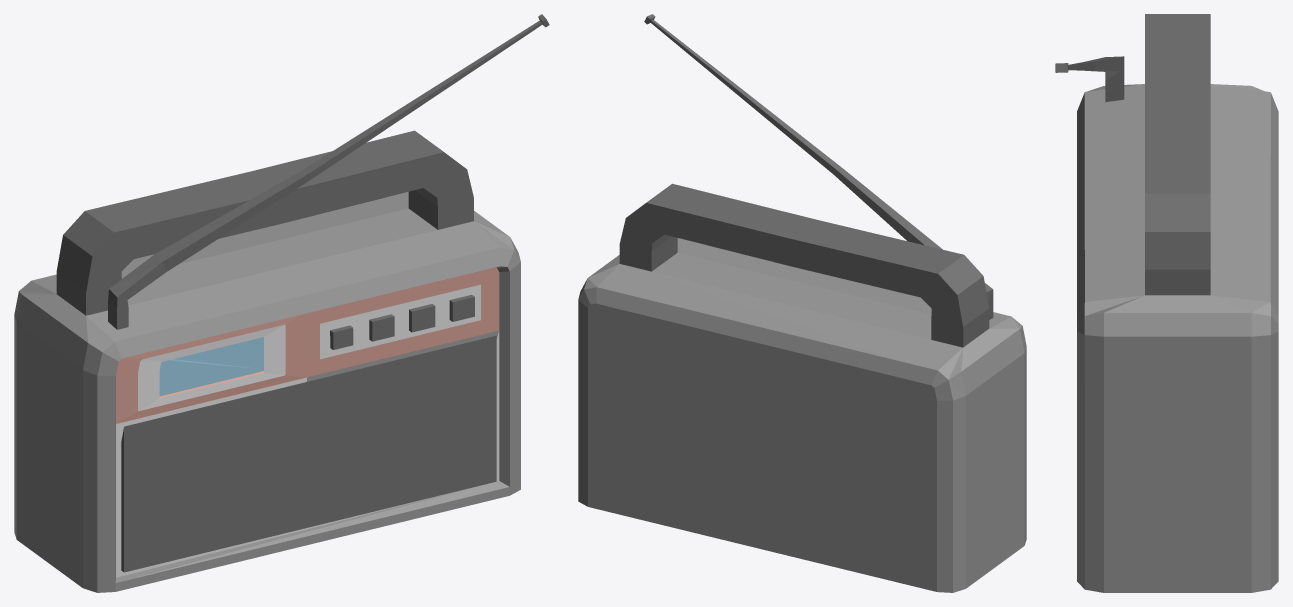
The model's file is radio.fbx.
3 renders of one model, left to right at view 1: azimuth 30°, elevation 25°; view 2: azimuth 150°, elevation 25°; view 3: azimuth 270°, elevation 25°, orthographic. The views are drawn at different scales.
Visible parts, largest first — view 1: pCube46; view 2: pCube46; view 3: pCube46.
Part boxes in pixels (x1,y1,x2,y2): pCube46: (14, 14, 549, 592); pCube46: (578, 14, 1026, 592); pCube46: (1055, 14, 1278, 592).
Size of the model in its own units: 0.5194 by 0.5319 by 0.2014.
